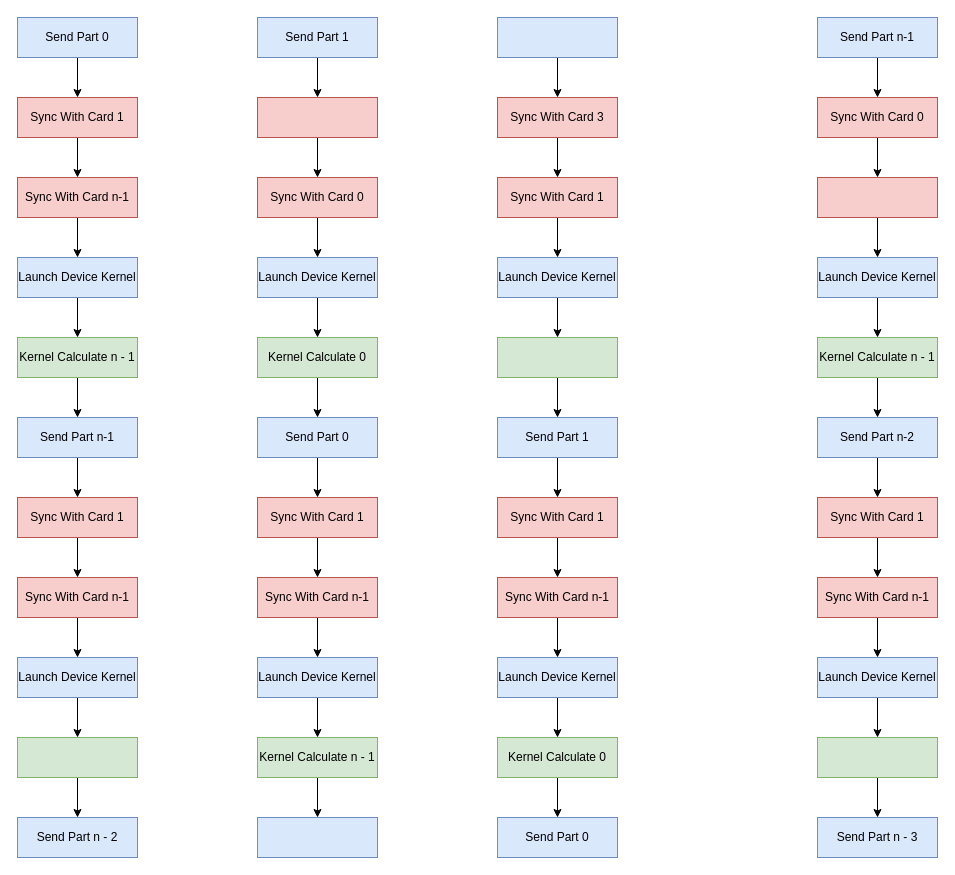
Image size: 955x875. Some labels were removed from this diagram. The shapes that lost their labels are listed below. From the top down, each one's centre as x and y in pixels, then its label:
At [557,37]: "Send Part 2".
At [317,117]: "Sync With Card 2".
At [877,197]: "Sync With Card n-2".
At [557,357]: "Kernel Calculate 1".
At [77,757]: "Kernel Calculate n - 2".
At [877,757]: "Kernel Calculate n - 3".
At [317,837]: "Send Part n - 1".
